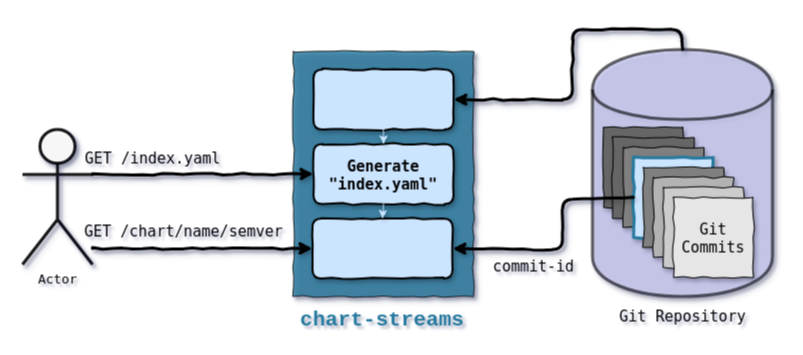
Some shapes in this 803 by 355 pixel diagram are drawn without their labels. The shapes that lost their labels are listed below. From the top down, each one's centre as x and y in pixels, then its label:
(x=384, y=100): Navigate Repository
(x=383, y=249): Retrieve Chart's tarball (semver)
